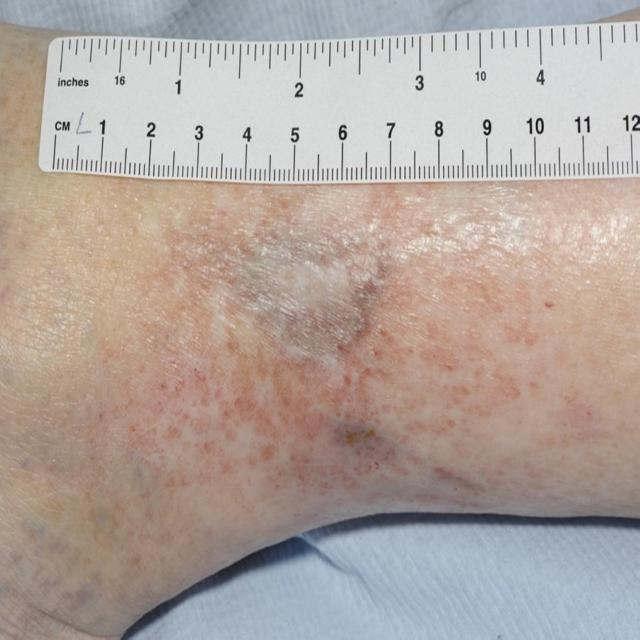wound: (180, 185, 489, 495)
